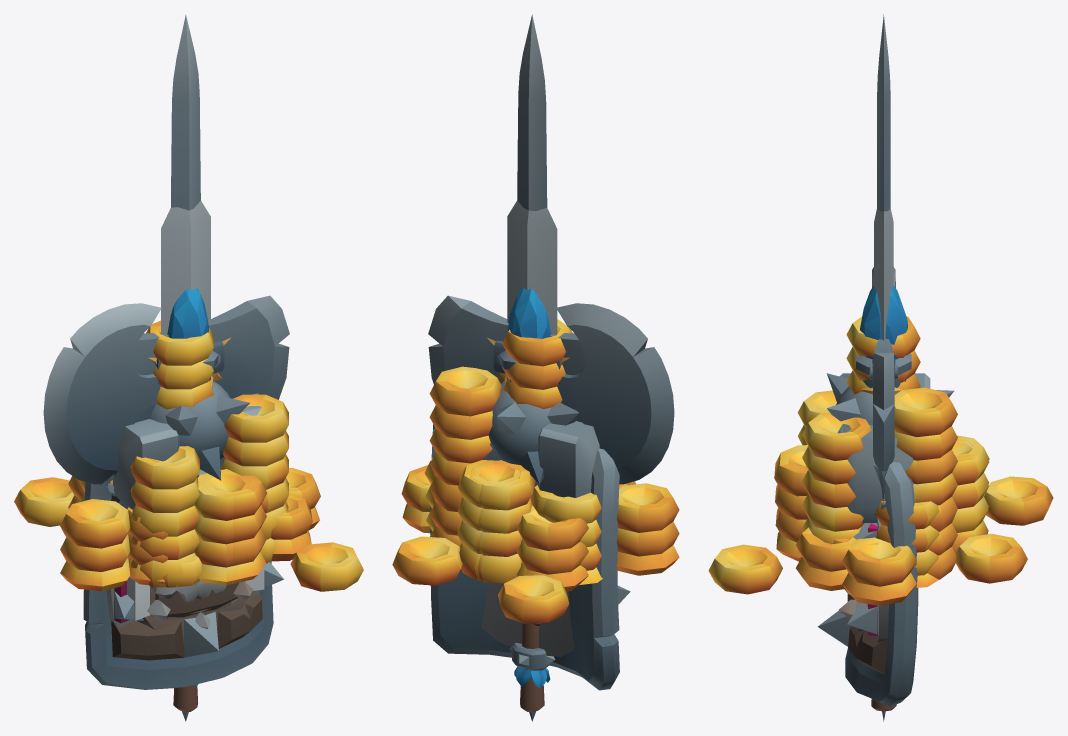
The model's file is weapons.glb.
The picture shows the model from 3 angles, left to right: view 1: azimuth 30°, elevation 25°; view 2: azimuth 150°, elevation 25°; view 3: azimuth 270°, elevation 25°; orthographic projection.
Visible parts, largest first — view 1: coin_stack_large, shield_C, halberd, axe_B, coin_stack_medium, sword_2handed_color, sword_E, hammer_B, hammer_A, staff_B, Skeleton_Shield_Large_A, spellbook_open (+2 smaller); view 2: coin_stack_large, halberd, shield_C, axe_B, sword_2handed_color, sword_E, coin_stack_small, hammer_B, hammer_A, coin_stack_medium, staff_B, Skeleton_Shield_Large_A (+1 smaller); view 3: coin_stack_large, coin_stack_medium, shield_C, axe_B, hammer_A, sword_E, staff_B, sword_2handed_color, hammer_B, halberd.
Part boxes in pixels (bbox=[...]): coin_stack_large: bbox=[14, 320, 363, 591]; shield_C: bbox=[83, 469, 283, 689]; halberd: bbox=[43, 303, 218, 721]; axe_B: bbox=[132, 295, 289, 422]; coin_stack_medium: bbox=[127, 469, 312, 584]; sword_2handed_color: bbox=[110, 200, 210, 484]; sword_E: bbox=[105, 14, 200, 496]; hammer_B: bbox=[150, 381, 249, 480]; hammer_A: bbox=[111, 393, 261, 509]; staff_B: bbox=[149, 288, 230, 711]; Skeleton_Shield_Large_A: bbox=[106, 503, 260, 642]; spellbook_open: bbox=[114, 566, 266, 623]; coin_stack_large: bbox=[392, 319, 679, 623]; halberd: bbox=[499, 303, 674, 721]; shield_C: bbox=[430, 424, 630, 690]; axe_B: bbox=[428, 295, 585, 625]; sword_2handed_color: bbox=[507, 200, 557, 334]; sword_E: bbox=[517, 14, 547, 211]; coin_stack_small: bbox=[516, 505, 588, 591]; hammer_B: bbox=[483, 381, 579, 624]; hammer_A: bbox=[534, 421, 619, 497]; coin_stack_medium: bbox=[424, 458, 635, 580]; staff_B: bbox=[487, 287, 569, 711]; Skeleton_Shield_Large_A: bbox=[481, 582, 574, 656]; coin_stack_large: bbox=[708, 316, 1053, 605]; coin_stack_medium: bbox=[774, 439, 989, 590]; shield_C: bbox=[817, 461, 918, 706]; axe_B: bbox=[869, 339, 898, 494]; hammer_A: bbox=[837, 373, 930, 522]; sword_E: bbox=[877, 14, 890, 509]; staff_B: bbox=[860, 285, 907, 711]; sword_2handed_color: bbox=[874, 208, 893, 501]; hammer_B: bbox=[827, 373, 954, 425]; halberd: bbox=[856, 267, 911, 721].
Bounding box in the file's own units: 1.51 × 3.76 × 1.66.
Materials: 5 (5 with a texture image).
